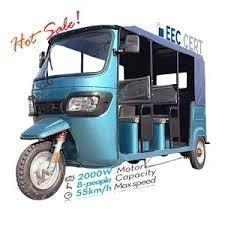keke: (20, 22, 212, 220)
